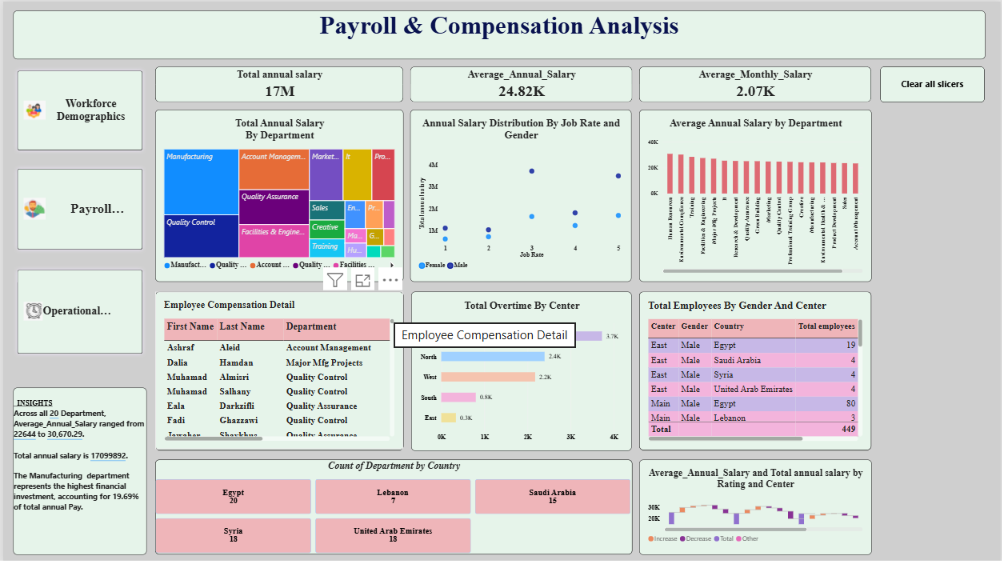

This screenshot's page, from the dashboard's own definition file:
{"tool":"powerbi","page":{"name":"Payroll And Compensation ","canvas":[1920,1080],"ordinal":1},"visuals":[{"type":"textbox","box":[18.8,16.7,1869.9,93.9],"z":0},{"type":"cardVisual","fields":{"Data":["Employees.Total annual salary"]},"box":[291.4,124.9,477.8,68.8],"z":1000},{"type":"cardVisual","fields":{"Data":["Employees.Average_Monthly_Salary"]},"box":[1223.3,124.9,447,68.8],"z":2000},{"type":"treemap","title":"Total Annual Salary","fields":{"Group":["Employees.Department"],"Values":["Employees.Total annual salary"]},"box":[291.4,208.1,477.8,331.2],"z":3000},{"type":"scatterChart","title":"Annual Salary Distribution By Job Rate and Gender","fields":{"Series":["Employees.Gender"],"X":["Employees.Job Rate"],"Y":["Employees.Total annual salary"]},"box":[783.6,208.1,425.3,331.2],"z":4000},{"type":"columnChart","title":"Average Annual Salary by Department","fields":{"Category":["Employees.Department"],"Y":["Employees.Average_Annual_Salary"]},"box":[1223.3,208.1,447,331.2],"z":5000},{"type":"cardVisual","fields":{"Data":["Employees.Average_Annual_Salary"]},"box":[781.8,124.9,427.1,68.8],"z":6000},{"type":"tableEx","title":"Employee Compensation Detail","fields":{"Values":["Employees.First Name","Employees.Last Name","Employees.Department","Employees.Country","Employees.Gender","Employees.Job Rate","Employees.Rating","Employees.Annual Salary"]},"box":[292.3,557.8,477.5,304.6],"z":7000},{"type":"tableEx","title":"Total Employees By Gender And Center","fields":{"Values":["Employees.Center","Employees.Gender","Employees.Country","Employees.Total employees","Employees.Total annual salary"]},"box":[1222.6,557.8,446.7,304.6],"z":8000},{"type":"advancedSlicerVisual","fields":{"Label":["Count(Employees.Department)"],"Values":["Employees.Country"]},"box":[291.4,881.3,917.5,182.8],"z":9000},{"type":"actionButton","box":[18.8,125.2,256.7,169],"z":10000},{"type":"actionButton","box":[18.8,313,256.7,171.1],"z":11000},{"type":"actionButton","box":[18.8,507.1,256.7,177.4],"z":12000},{"type":"textbox","title":"INSIGHTS","box":[18.8,743,256.7,321.4],"z":13000},{"type":"clusteredBarChart","title":"Total Overtime By Center","fields":{"Category":["Employees.Center"],"Y":["Employees.Total_Overtime"]},"box":[784.2,557.8,424,306.7],"z":14000},{"type":"waterfallChart","fields":{"Breakdown":["Employees.Center"],"Category":["Employees.Rating"],"Y":["Employees.Average_Annual_Salary"]},"box":[1223,881,447,183],"z":15000},{"type":"actionButton","box":[1686.6,124.9,200.9,68.8],"z":15001}]}

Visuals, with their boxes in screenshot pixels (x1, y1, x2, y2), scaled from the page's 1920x1080 canvas onto the 1002x561 screenshot:
textbox: bbox(10, 9, 986, 57)
cardVisual - Employees.Total annual salary: bbox(152, 65, 401, 101)
cardVisual - Employees.Average_Monthly_Salary: bbox(638, 65, 872, 101)
"Total Annual Salary" treemap: bbox(152, 108, 401, 280)
"Annual Salary Distribution By Job Rate and Gender" scatterChart: bbox(409, 108, 631, 280)
"Average Annual Salary by Department" columnChart: bbox(638, 108, 872, 280)
cardVisual - Employees.Average_Annual_Salary: bbox(408, 65, 631, 101)
"Employee Compensation Detail" tableEx: bbox(153, 290, 402, 448)
"Total Employees By Gender And Center" tableEx: bbox(638, 290, 871, 448)
advancedSlicerVisual - Count(Employees.Department) x Employees.Country: bbox(152, 458, 631, 553)
actionButton: bbox(10, 65, 144, 153)
actionButton: bbox(10, 163, 144, 251)
actionButton: bbox(10, 263, 144, 356)
"INSIGHTS" textbox: bbox(10, 386, 144, 553)
"Total Overtime By Center" clusteredBarChart: bbox(409, 290, 631, 449)
waterfallChart - Employees.Center x Employees.Rating: bbox(638, 458, 872, 553)
actionButton: bbox(880, 65, 985, 101)
